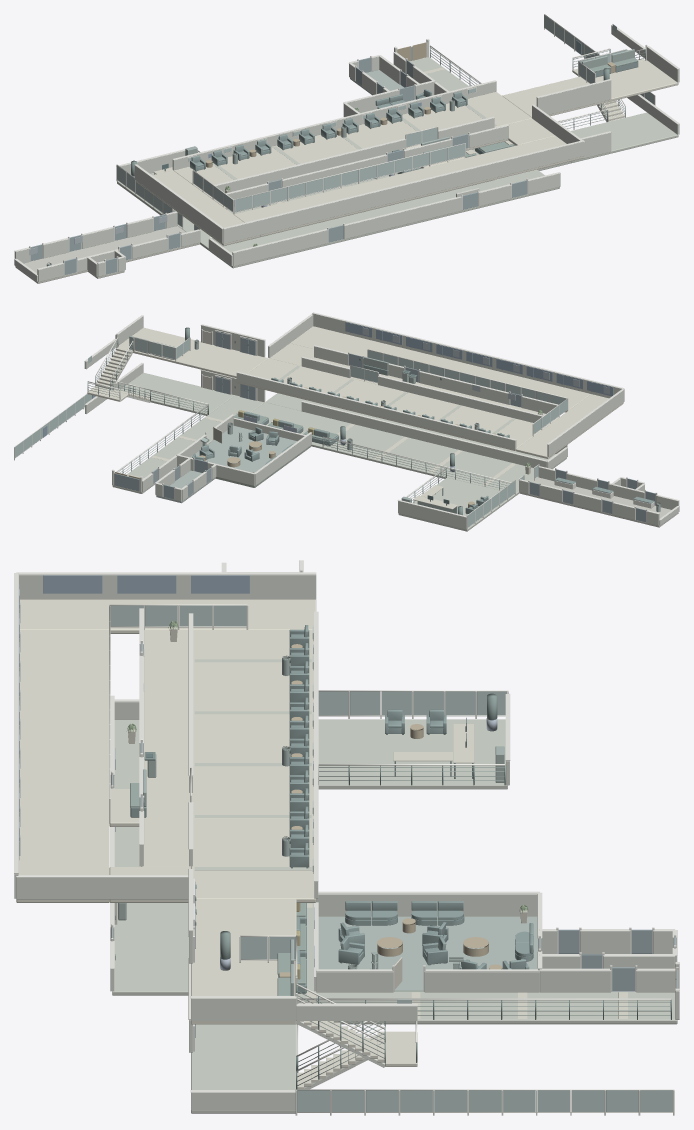
File: building.glb
3 views of the same model, one above another, from view 1: azimuth 30°, elevation 25°; view 2: azimuth 150°, elevation 25°; view 3: azimuth 270°, elevation 25° (orthographic). The views are drawn at different scales.
Parts seen in each view (by area): view 1: Long window lounge, Mural corridor south, Mural corridor, Restroom and noticeboard passage, Upper lift landing, Main lift and stair lobby, Window lounge north, Upper passage north, Mural corridor · west return, Gallery corridor, Restroom passage south.001, Lift bank wall.001 (+21 smaller); view 2: Main seating concourse, Long window lounge, Mural corridor, Upper lift landing, Window lounge north, Main lift and stair lobby, Concourse back edge, East balcony, Mural corridor south, Lounge · carpet, Mural corridor · west return, West desk lounge (+25 smaller); view 3: Long window lounge, Mural corridor, West desk lounge, Upper restroom passage, Restroom and noticeboard passage, East balcony, Upper lift landing, Lounge · carpet, Main lift and stair lobby, Mural corridor · west return, Mural corridor west, Mural corridor east (+22 smaller).
Part boxes in pixels (box(x1,y1,x2,y2)): Long window lounge: box(173, 91, 531, 196); Mural corridor south: box(223, 141, 584, 243); Mural corridor: box(234, 136, 583, 236); Restroom and noticeboard passage: box(210, 169, 559, 268); Upper lift landing: box(502, 60, 678, 117); Main lift and stair lobby: box(571, 112, 678, 163); Window lounge north: box(172, 81, 496, 170); Upper passage north: box(216, 140, 405, 192); Mural corridor · west return: box(136, 170, 260, 245); Gallery corridor: box(15, 226, 199, 283); Restroom passage south.001: box(344, 197, 462, 238); Lift bank wall.001: box(536, 80, 611, 114); Main seating concourse: box(251, 402, 538, 495); Long window lounge: box(237, 358, 546, 450); Mural corridor: box(290, 326, 590, 412); Upper lift landing: box(116, 327, 268, 377); Window lounge north: box(236, 373, 516, 449); Main lift and stair lobby: box(120, 372, 234, 415); Concourse back edge: box(301, 402, 547, 467); East balcony: box(112, 395, 264, 493); Mural corridor south: box(312, 313, 621, 398); Lounge · carpet: box(190, 425, 296, 472); Mural corridor · west return: box(516, 394, 623, 458); West desk lounge: box(398, 477, 515, 531); Long window lounge: box(191, 630, 316, 902); Mural corridor: box(16, 630, 109, 902); West desk lounge: box(318, 719, 507, 789); Upper restroom passage: box(141, 630, 190, 867); Restroom and noticeboard passage: box(112, 719, 188, 995); East balcony: box(297, 992, 677, 1024); Upper lift landing: box(191, 899, 296, 1024); Lounge · carpet: box(318, 916, 537, 990); Main lift and stair lobby: box(191, 1024, 296, 1113); Mural corridor · west return: box(19, 599, 316, 633); Mural corridor west: box(19, 575, 316, 599); Mural corridor east: box(16, 877, 188, 899).
Bounding box in the file's own units: 51.31 × 5.84 × 27.1.
